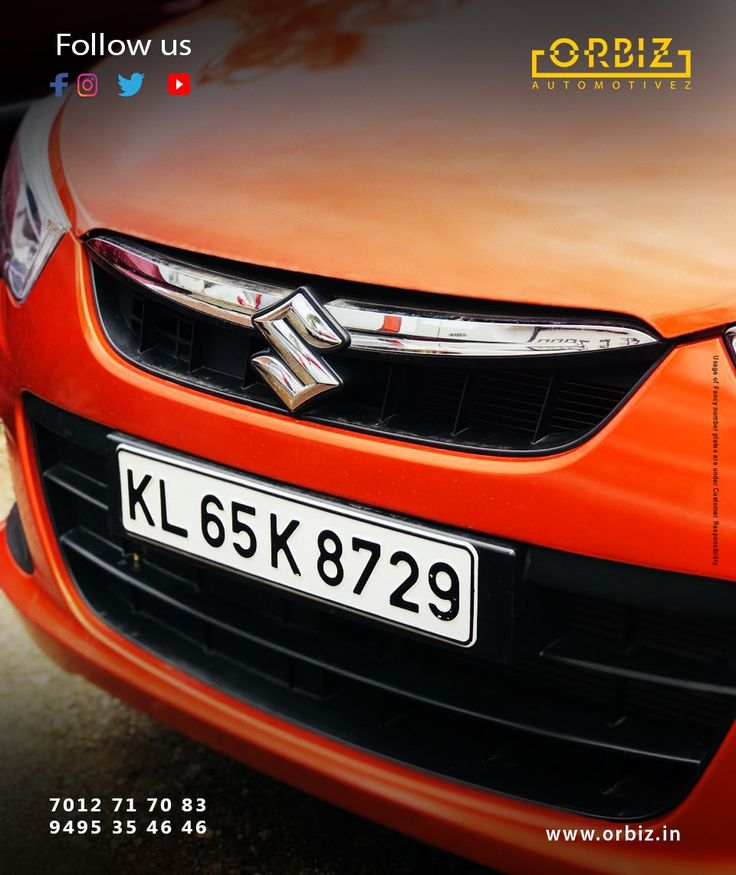numberplate: (94, 433, 479, 649)
